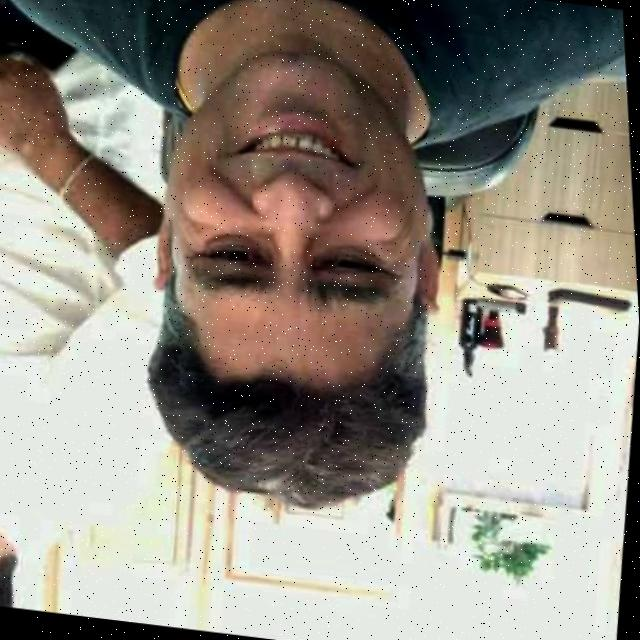puffy_eyes: (216, 235, 267, 250)
